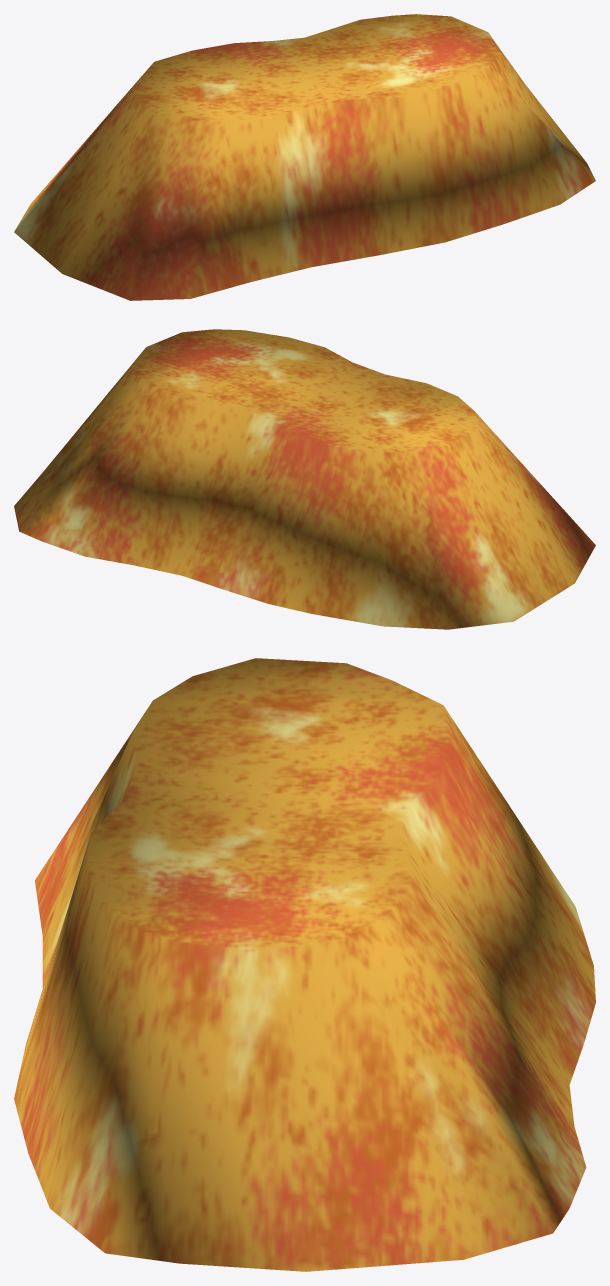
File: Blockade.fbx
The picture shows the model from 3 angles, top to bottom: view 1: azimuth 30°, elevation 25°; view 2: azimuth 150°, elevation 25°; view 3: azimuth 270°, elevation 25°; orthographic projection. The views are drawn at different scales.
Parts seen in each view (by area): view 1: pCube1; view 2: pCube1; view 3: pCube1.
Part boxes in pixels (<box>): pCube1: <box>14,14,595,300</box>; pCube1: <box>14,329,595,629</box>; pCube1: <box>14,658,595,1271</box>.
Size of the model in its own units: 8.26 by 2.06 by 4.48.
1 material, 1 textured.
